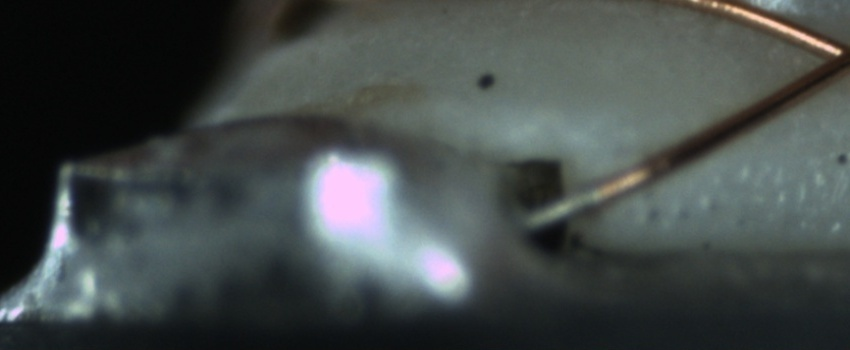CL: (800, 25, 850, 88)
TS: (521, 191, 607, 228)
